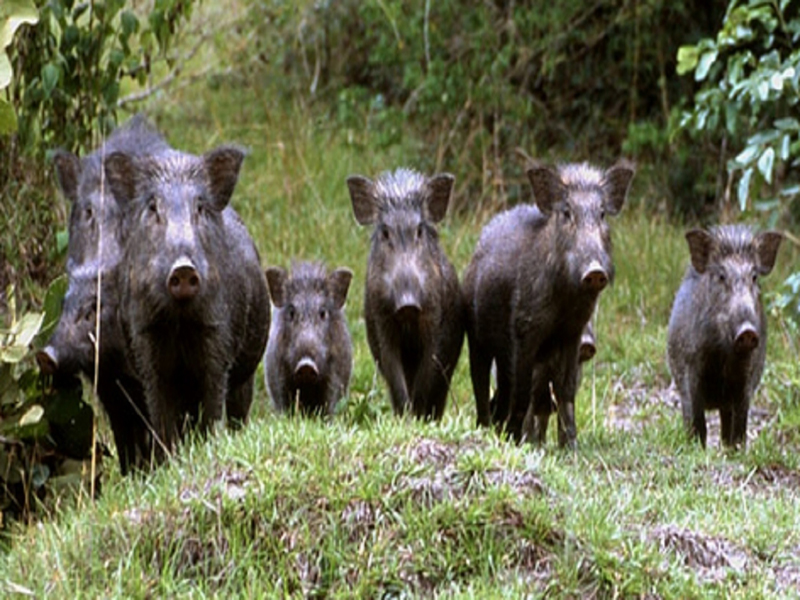cinghiale: (465, 157, 640, 433), (130, 150, 254, 439), (666, 224, 783, 446), (359, 165, 465, 404), (254, 260, 362, 415), (39, 256, 121, 392)
